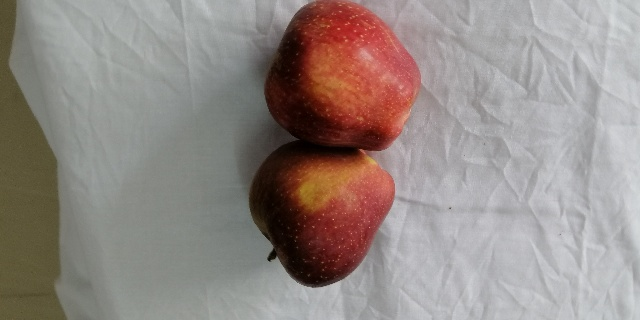apple_kashmir: (259, 0, 425, 150), (248, 140, 403, 289)
